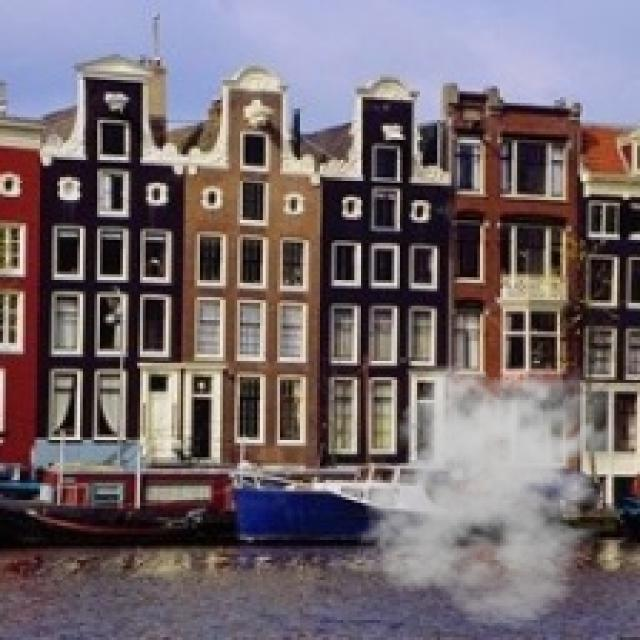smoke: (357, 354, 632, 629)
